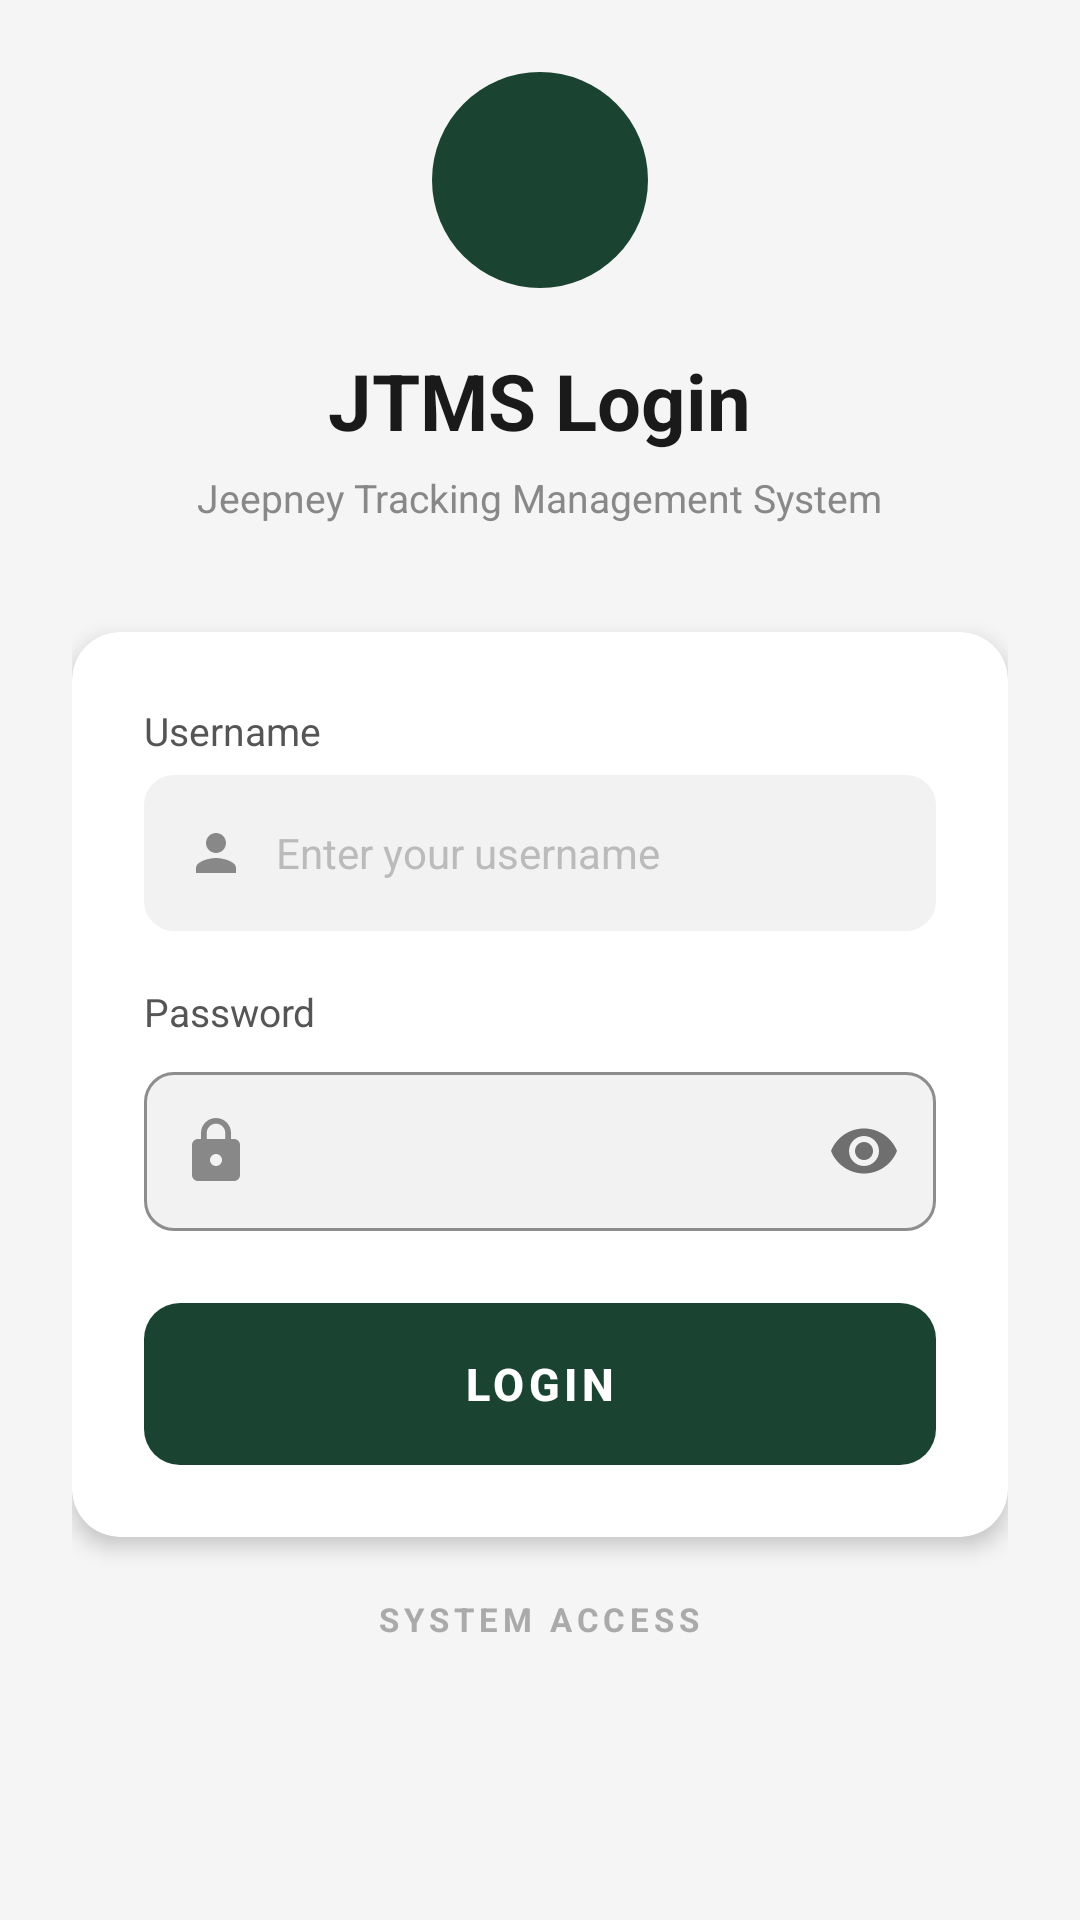

Icon click points for this 1080 × 1920 phone screenshot, format (x=x, y=y):
person: (x=216, y=853)
